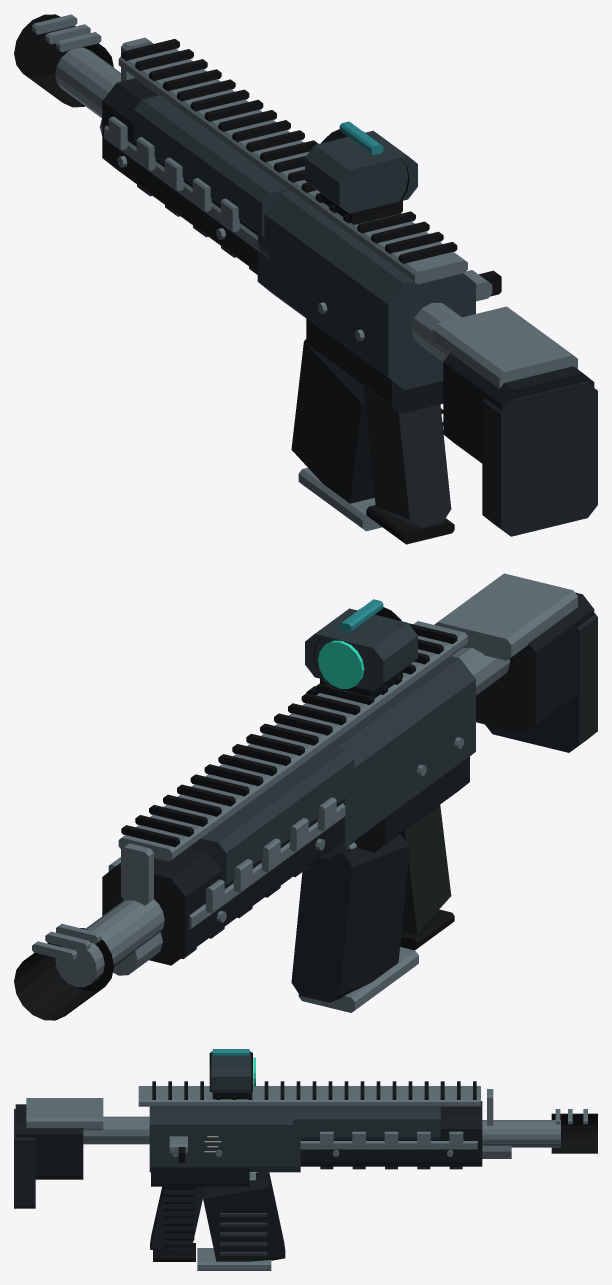
The model's file is KestrelAR4.obj.
3 renders of one model, top to bottom at view 1: azimuth 30°, elevation 25°; view 2: azimuth 150°, elevation 25°; view 3: azimuth 270°, elevation 25°, orthographic. The views are drawn at different scales.
Size of the model in its own units: 0.3175 by 0.7722 by 1.89.
